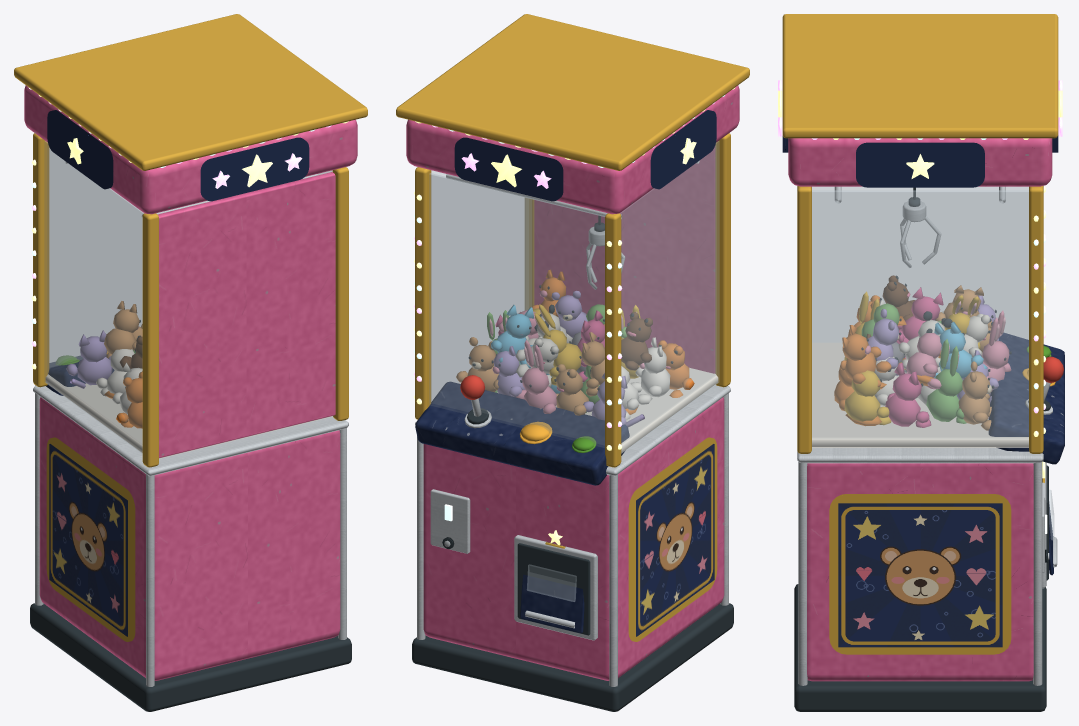
File: claw-machine.fbx
3 views of the same model, side by side, from view 1: azimuth 30°, elevation 25°; view 2: azimuth 150°, elevation 25°; view 3: azimuth 270°, elevation 25° (orthographic). The views are drawn at different scales.
Parts seen in each view (by area): view 1: Body; view 2: Body, Anim Spin; view 3: Body, Anim Spin.
Boxes of the visible parts, x1,y1,x2,y2 form: Body: [14, 14, 367, 711]; Body: [396, 14, 749, 711]; Anim Spin: [586, 222, 625, 289]; Body: [778, 14, 1064, 711]; Anim Spin: [900, 197, 941, 267].
Size of the model in its own units: 0.975 by 2.22 by 0.9784.
